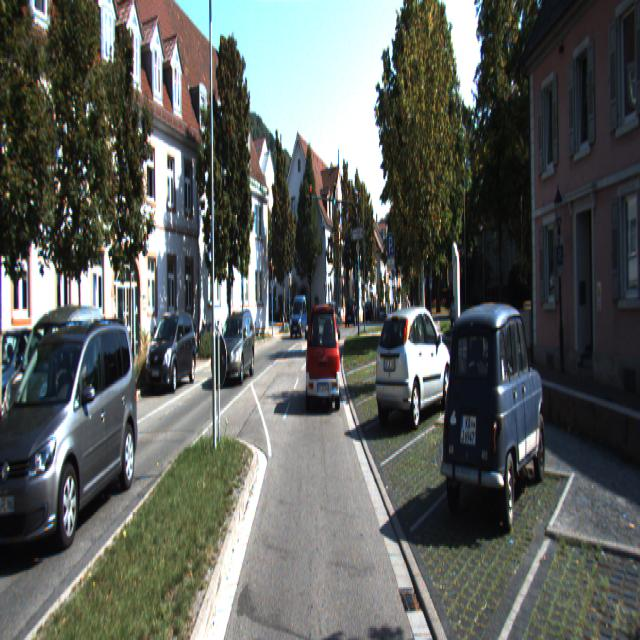Car: (0, 313, 142, 552), (435, 297, 550, 543), (5, 303, 109, 470), (374, 303, 453, 426), (70, 315, 137, 397), (144, 310, 198, 392), (307, 304, 341, 411), (214, 312, 256, 386), (222, 311, 255, 360), (290, 296, 307, 341), (345, 298, 358, 327)
